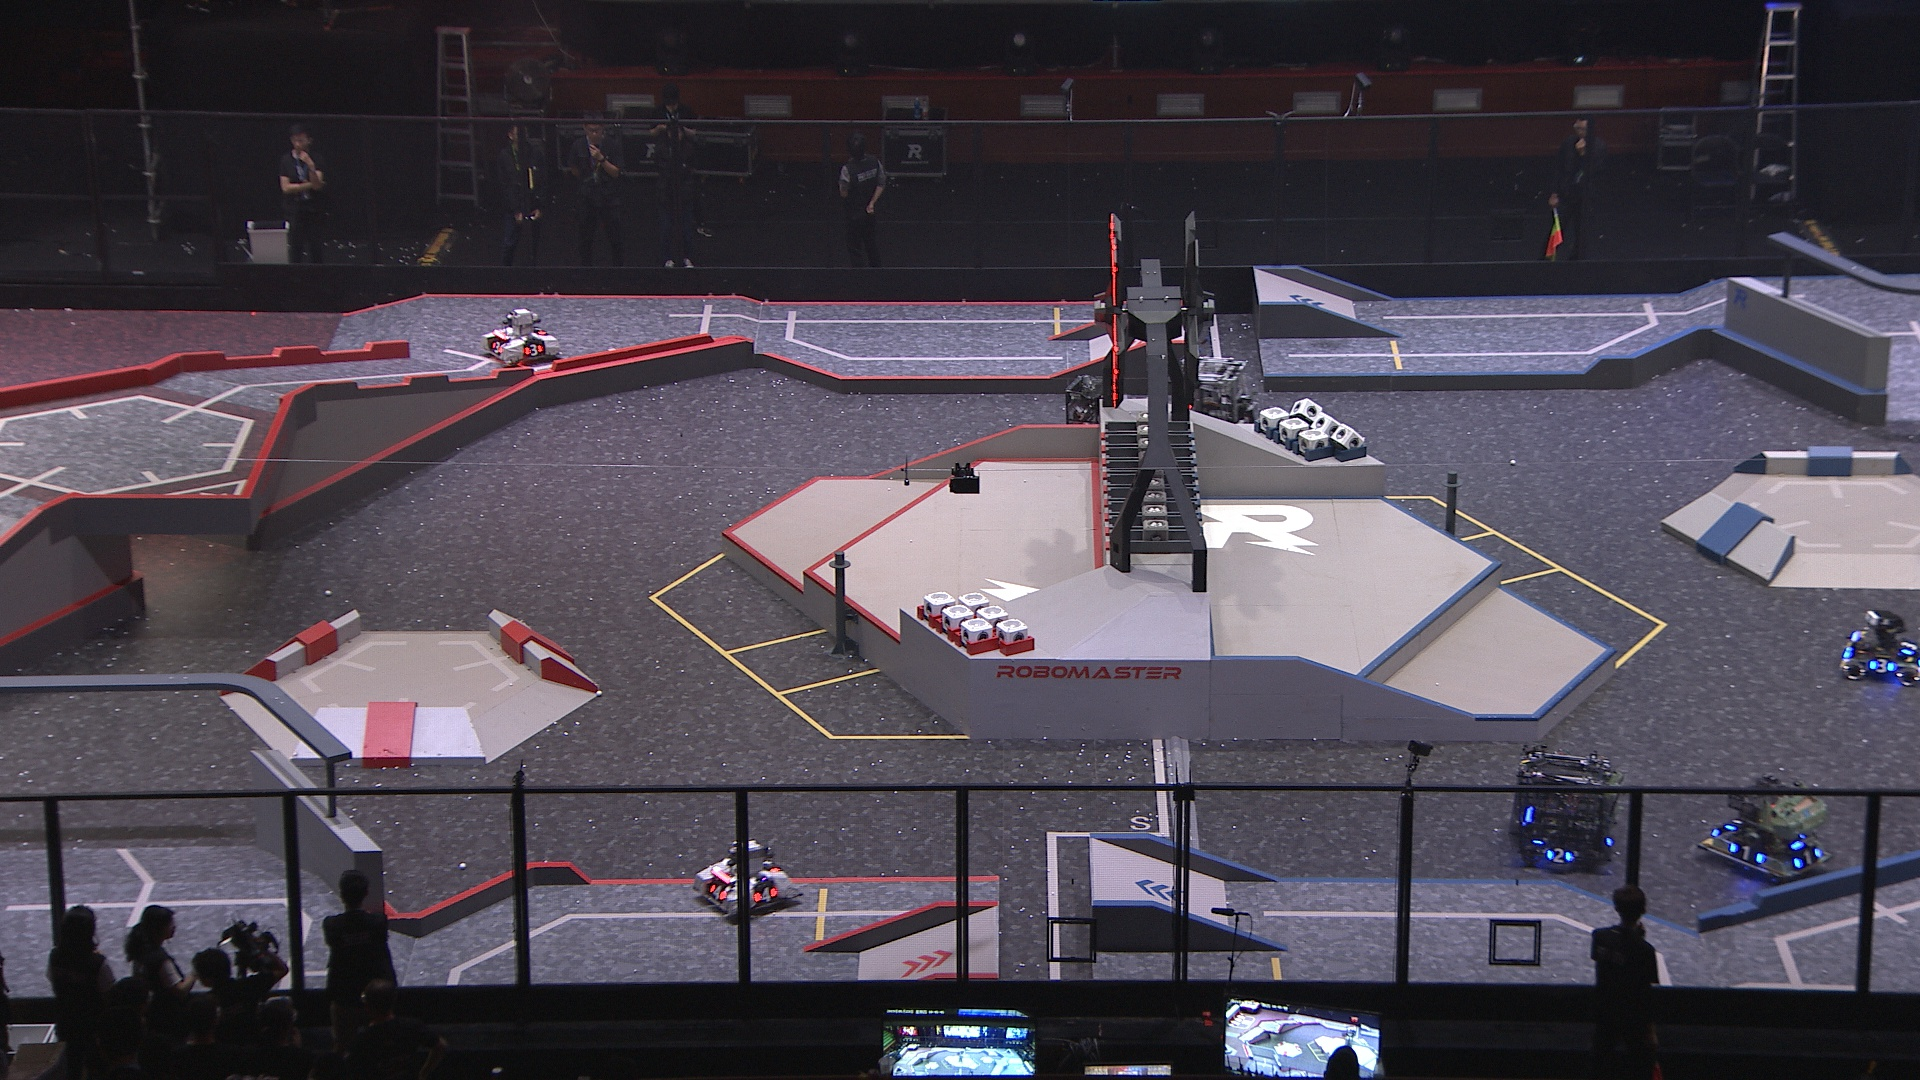armor: (1730, 843, 1764, 866), (1792, 847, 1820, 870), (1543, 847, 1576, 865), (1869, 655, 1898, 674), (754, 884, 775, 905), (1898, 636, 1917, 655), (708, 884, 727, 903), (524, 342, 545, 357), (1722, 815, 1741, 832), (489, 342, 504, 356)
car: (1695, 775, 1832, 885), (1505, 746, 1621, 873), (688, 841, 802, 916), (1168, 356, 1257, 439), (1063, 373, 1143, 458), (1840, 611, 1920, 690), (479, 305, 566, 367)
